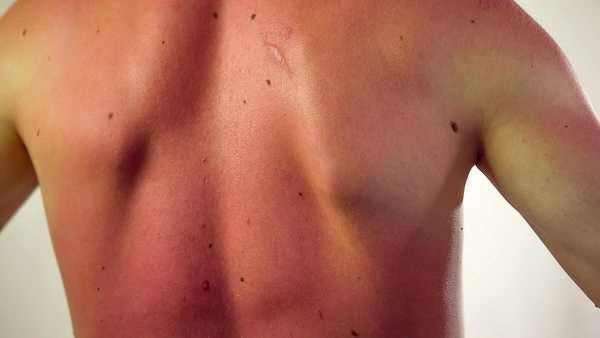mole: (445, 114, 464, 139), (193, 274, 215, 295), (205, 4, 223, 28), (14, 23, 33, 43), (292, 186, 313, 203), (345, 319, 362, 338), (245, 10, 262, 28), (101, 110, 120, 124), (236, 272, 251, 286), (206, 239, 220, 254), (467, 14, 479, 29), (263, 76, 275, 90), (97, 262, 109, 274), (158, 36, 169, 49)
